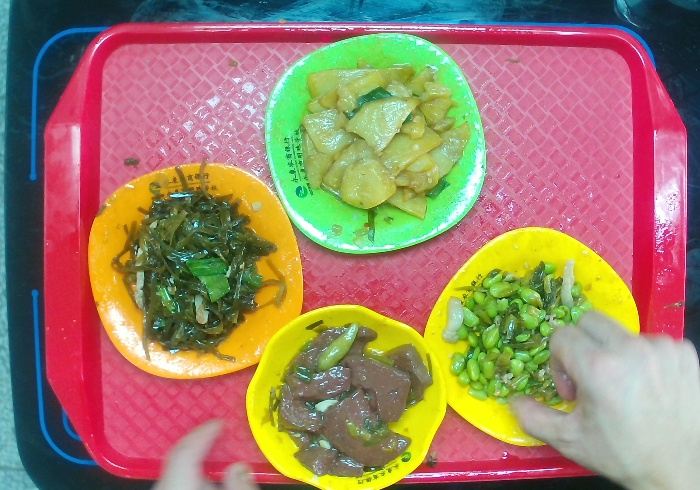YKMZ-Huang_Se_Ao_Bian_Wan: (246, 303, 452, 490)
YKMZ-Huang_Se_Fang_Die: (422, 227, 640, 453)
YKMZ-Ju_Se_Fang_Die: (87, 163, 303, 376)
YKMZ-Lv_Se_Fang_Die: (259, 31, 491, 255)
